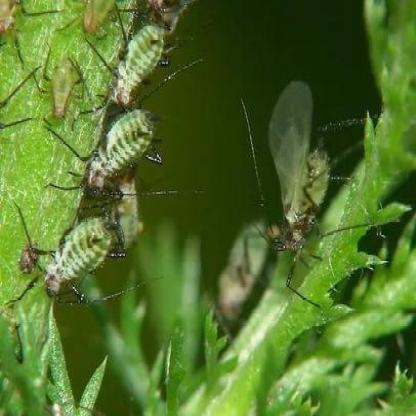aphid: (256, 79, 354, 287), (32, 198, 124, 320), (76, 94, 162, 205), (209, 219, 290, 316), (102, 13, 172, 112), (29, 48, 87, 128), (73, 0, 124, 34)
